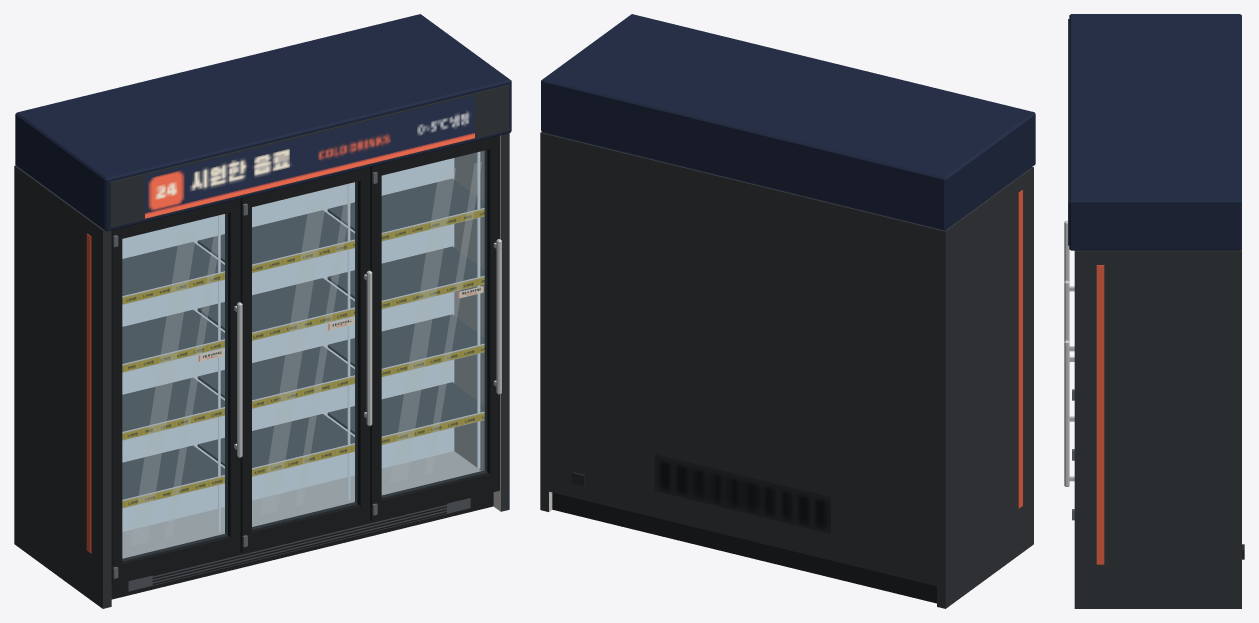
Rendered from SC_Fix_Fridge_Drinks_3Door_Empty.gltf.
3 renders of one model, left to right at view 1: azimuth 30°, elevation 25°; view 2: azimuth 150°, elevation 25°; view 3: azimuth 270°, elevation 25°, orthographic. The views are drawn at different scales.
Parts seen in each view (by area): view 1: SC_Fix_Fridge_Drinks_3Door_Empty; view 2: SC_Fix_Fridge_Drinks_3Door_Empty; view 3: SC_Fix_Fridge_Drinks_3Door_Empty.
Part boxes in pixels (left/top/right/bottom): SC_Fix_Fridge_Drinks_3Door_Empty: left=14, top=14, right=511, bottom=608; SC_Fix_Fridge_Drinks_3Door_Empty: left=540, top=14, right=1035, bottom=608; SC_Fix_Fridge_Drinks_3Door_Empty: left=1064, top=14, right=1244, bottom=608.
Bounding box in the file's own units: 2.08 × 2.1 × 0.84.
5 materials, 5 textured.
